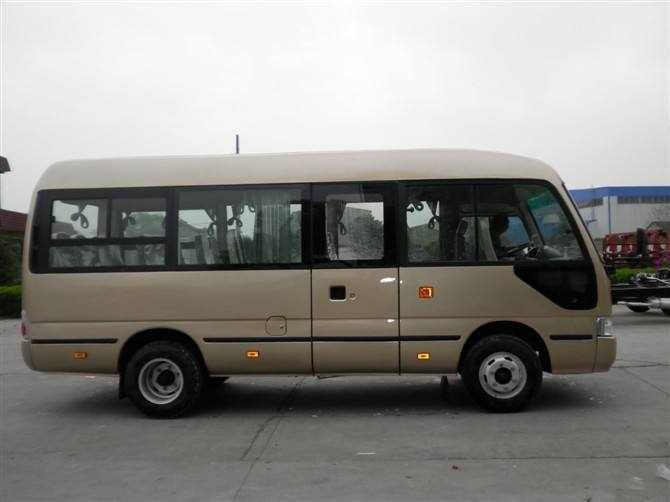midcar: (13, 141, 625, 425)
